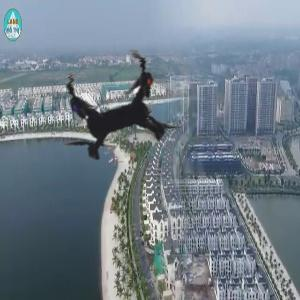drone: (7, 10, 222, 225)
